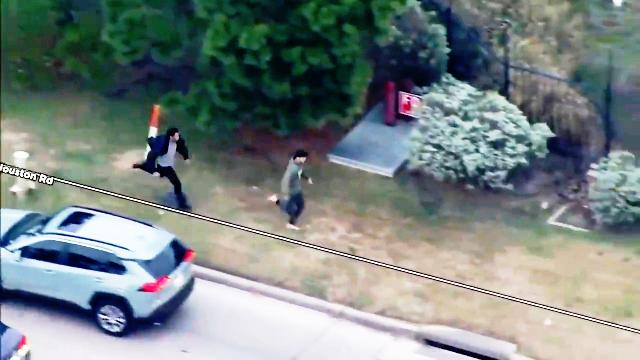berlari: (131, 118, 199, 214), (266, 139, 314, 233)
